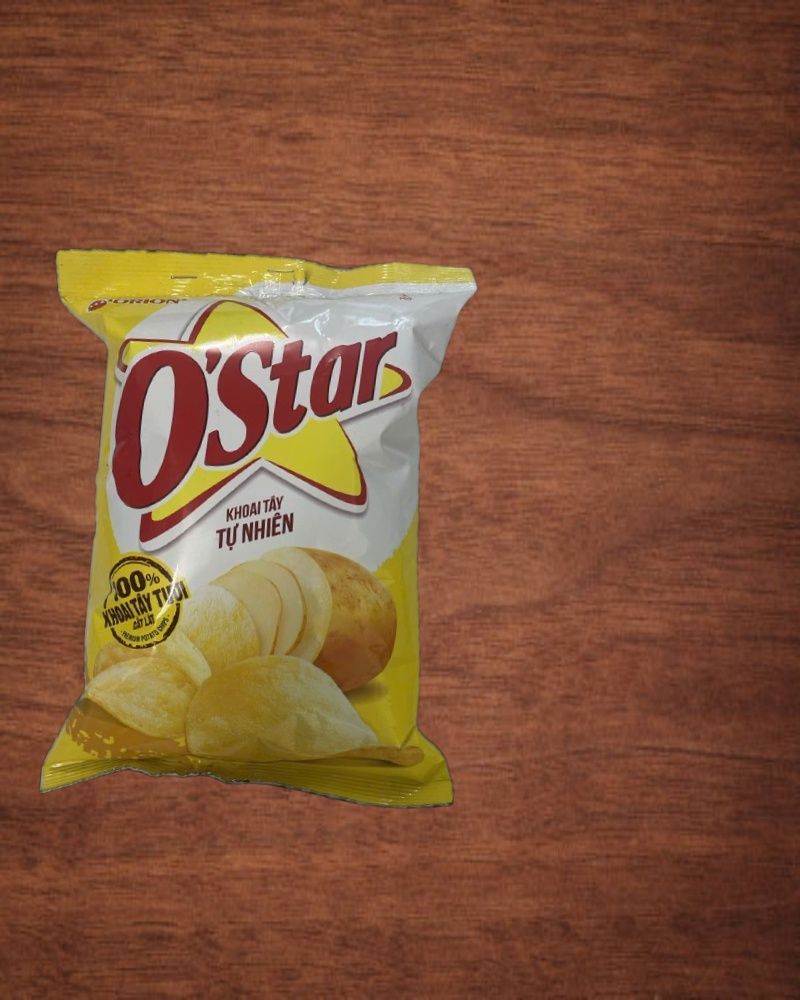O'star: (11, 232, 500, 829)
